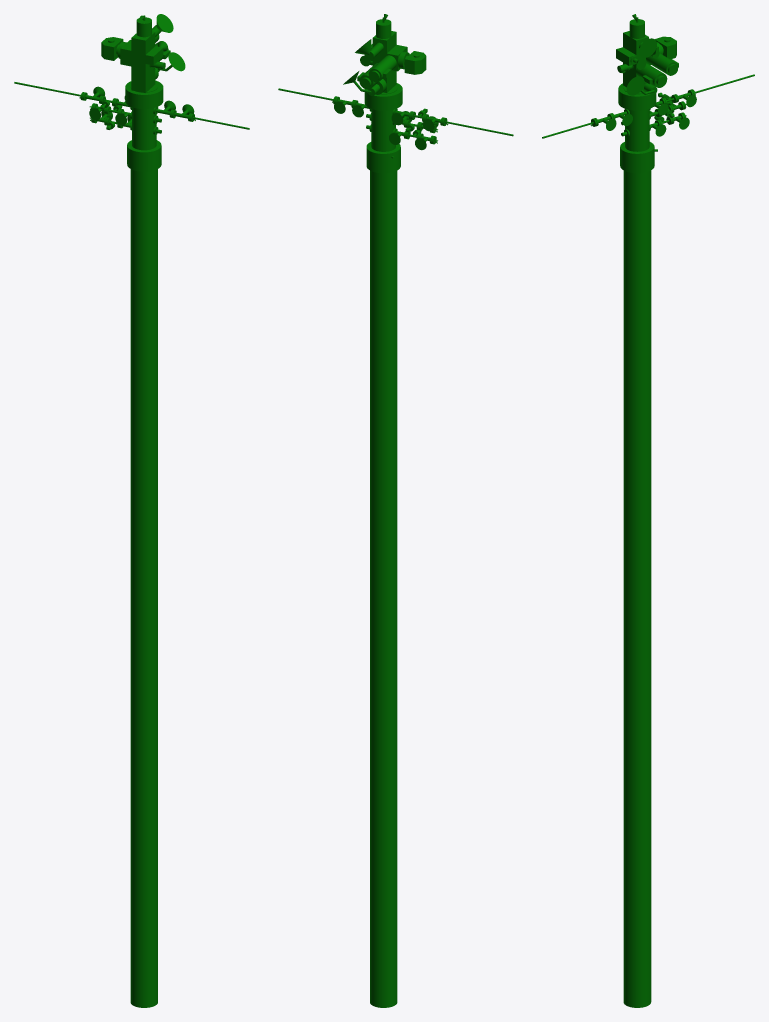
The model's file is Image-1710907768927-2281141326784_WELLHEAD-A9.fbx.
3 views of the same model, side by side, from view 1: azimuth 30°, elevation 25°; view 2: azimuth 210°, elevation 25°; view 3: azimuth 270°, elevation 25° (orthographic).
Visible parts, largest first — view 1: CYLINDER 1 of SUBEQUIPMENT /WELLHEAD-A9/PRIM, BOX 1 of SUBEQUIPMENT /WELLHEAD-A9/XTREE, CYLINDER 3 of SUBEQUIPMENT /WELLHEAD-A9/PRIM, CYLINDER 2 of SUBEQUIPMENT /WELLHEAD-A9/PRIM, CYLINDER 4 of SUBEQUIPMENT /WELLHEAD-A9/PRIM; view 2: CYLINDER 1 of SUBEQUIPMENT /WELLHEAD-A9/PRIM, CYLINDER 3 of SUBEQUIPMENT /WELLHEAD-A9/PRIM, CYLINDER 2 of SUBEQUIPMENT /WELLHEAD-A9/PRIM, CYLINDER 4 of SUBEQUIPMENT /WELLHEAD-A9/PRIM, BOX 1 of SUBEQUIPMENT /WELLHEAD-A9/XTREE; view 3: CYLINDER 1 of SUBEQUIPMENT /WELLHEAD-A9/PRIM, CYLINDER 3 of SUBEQUIPMENT /WELLHEAD-A9/PRIM, CYLINDER 2 of SUBEQUIPMENT /WELLHEAD-A9/PRIM, CYLINDER 4 of SUBEQUIPMENT /WELLHEAD-A9/PRIM, BOX 1 of SUBEQUIPMENT /WELLHEAD-A9/XTREE.
Boxes of the visible parts, x1,y1,x2,y2 form: CYLINDER 1 of SUBEQUIPMENT /WELLHEAD-A9/PRIM: [130, 169, 157, 1007]; BOX 1 of SUBEQUIPMENT /WELLHEAD-A9/XTREE: [131, 31, 155, 92]; CYLINDER 3 of SUBEQUIPMENT /WELLHEAD-A9/PRIM: [132, 107, 156, 150]; CYLINDER 2 of SUBEQUIPMENT /WELLHEAD-A9/PRIM: [127, 140, 161, 171]; CYLINDER 4 of SUBEQUIPMENT /WELLHEAD-A9/PRIM: [125, 80, 163, 108]; CYLINDER 1 of SUBEQUIPMENT /WELLHEAD-A9/PRIM: [370, 170, 397, 1007]; CYLINDER 3 of SUBEQUIPMENT /WELLHEAD-A9/PRIM: [371, 109, 395, 151]; CYLINDER 2 of SUBEQUIPMENT /WELLHEAD-A9/PRIM: [366, 142, 400, 173]; CYLINDER 4 of SUBEQUIPMENT /WELLHEAD-A9/PRIM: [364, 83, 402, 110]; BOX 1 of SUBEQUIPMENT /WELLHEAD-A9/XTREE: [372, 31, 396, 92]; CYLINDER 1 of SUBEQUIPMENT /WELLHEAD-A9/PRIM: [623, 170, 651, 1007]; CYLINDER 3 of SUBEQUIPMENT /WELLHEAD-A9/PRIM: [625, 109, 649, 151]; CYLINDER 2 of SUBEQUIPMENT /WELLHEAD-A9/PRIM: [620, 142, 654, 173]; CYLINDER 4 of SUBEQUIPMENT /WELLHEAD-A9/PRIM: [618, 83, 656, 110]; BOX 1 of SUBEQUIPMENT /WELLHEAD-A9/XTREE: [623, 31, 648, 87].
Size of the model in its own units: 4.14 by 5.88 by 30.05.
